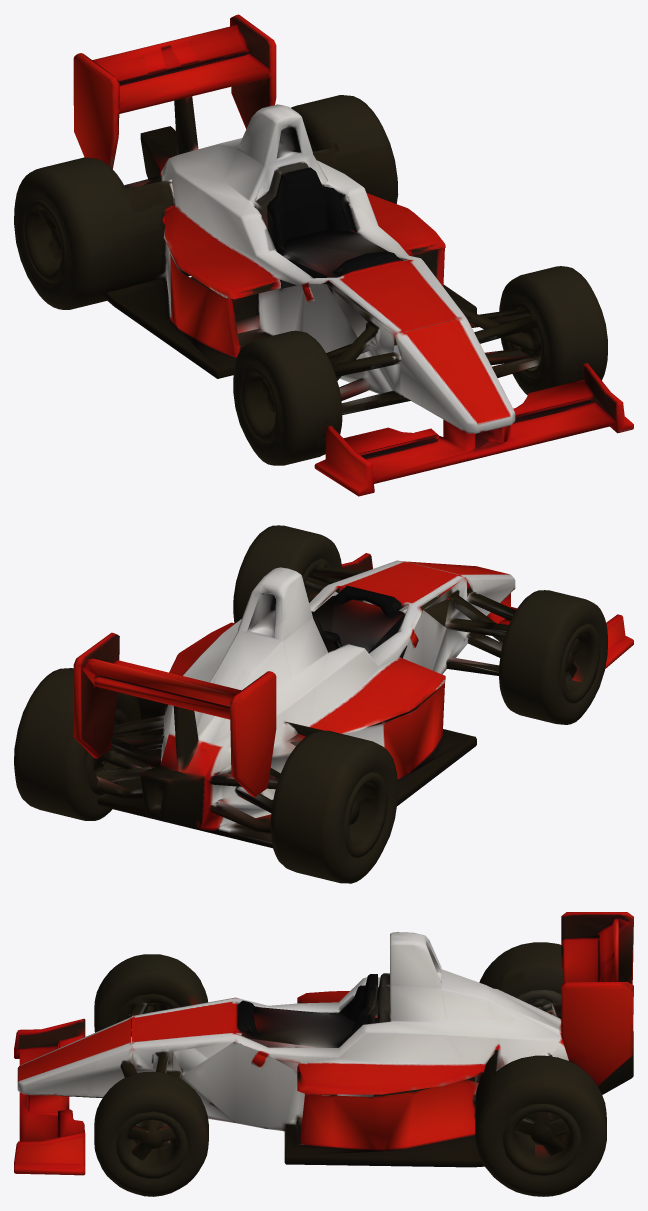
The model's file is race_car.fbx.
3 renders of one model, top to bottom at view 1: azimuth 30°, elevation 25°; view 2: azimuth 150°, elevation 25°; view 3: azimuth 270°, elevation 25°, orthographic. The views are drawn at different scales.
Parts seen in each view (by area): view 1: material; view 2: material; view 3: material.
Part boxes in pixels (<box>): material: <box>14,14,633,496</box>; material: <box>14,525,633,883</box>; material: <box>14,912,633,1196</box>.
Bounding box in the file's own units: 104 × 65.22 × 190.
1 material, 1 textured.
